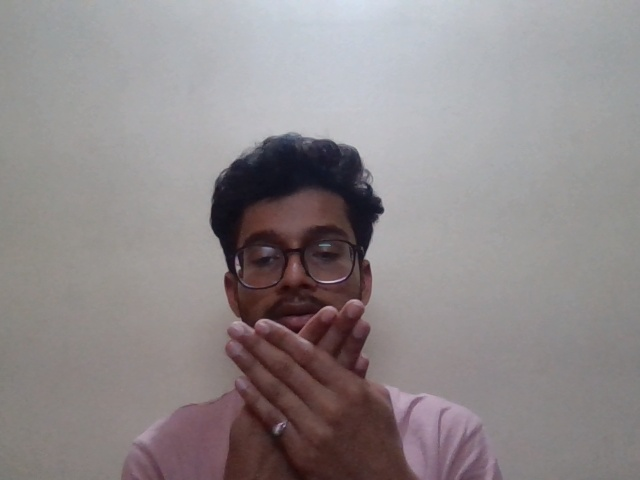what: (219, 289, 396, 468)
